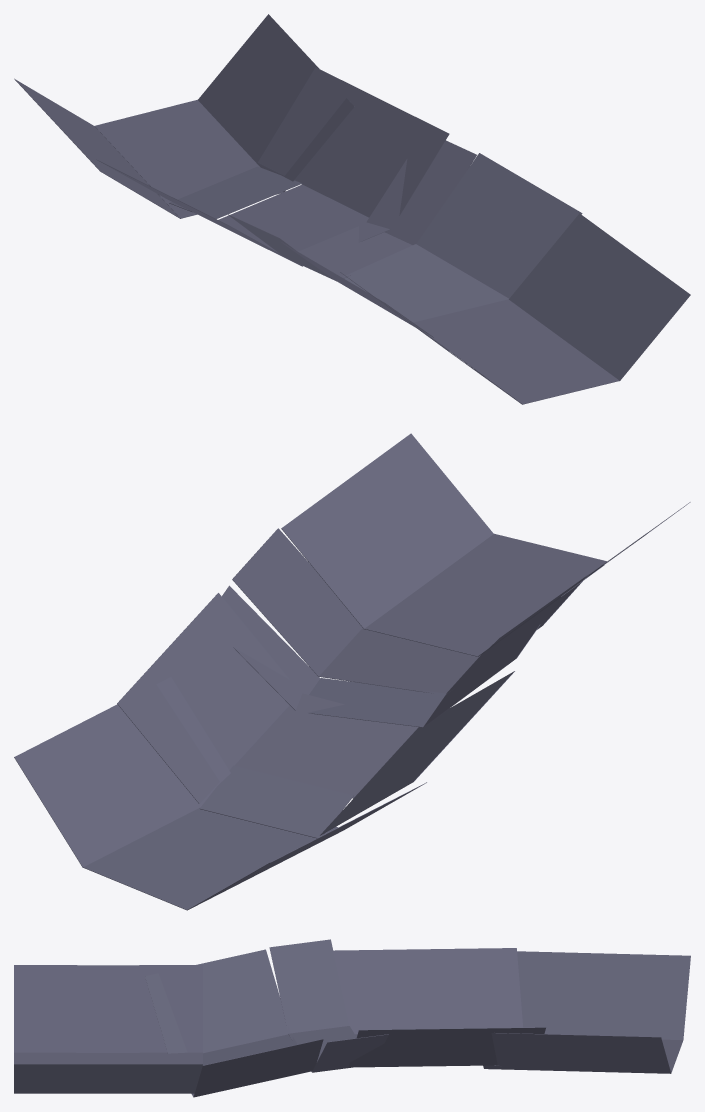
File: csg_baked_mesh_instance_3d.gltf
The picture shows the model from 3 angles, top to bottom: view 1: azimuth 30°, elevation 25°; view 2: azimuth 150°, elevation 25°; view 3: azimuth 270°, elevation 25°; orthographic projection. The views are drawn at different scales.
Visible parts, largest first — view 1: CSGBakedMeshInstance3D; view 2: CSGBakedMeshInstance3D; view 3: CSGBakedMeshInstance3D.
Boxes of the visible parts, x1=… form: CSGBakedMeshInstance3D: x1=14, y1=14, x2=690, y2=404; CSGBakedMeshInstance3D: x1=14, y1=433, x2=690, y2=910; CSGBakedMeshInstance3D: x1=14, y1=939, x2=690, y2=1097.
Size of the model in its own units: 94.36 by 29.14 by 214.
